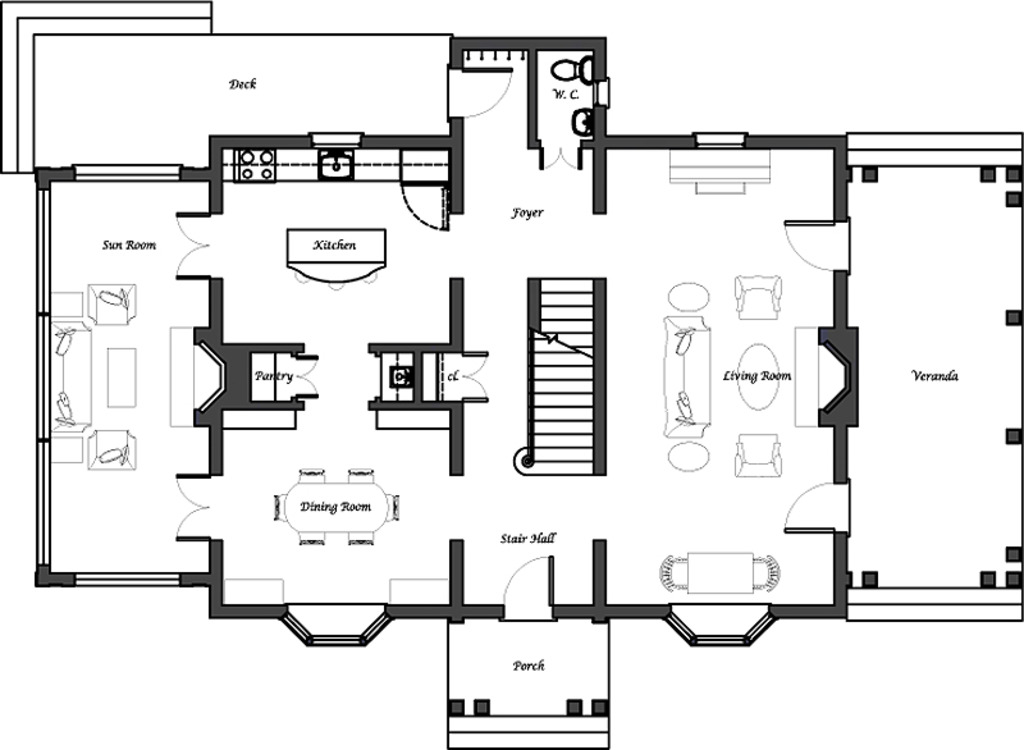dining_table: (266, 465, 401, 550)
door: (781, 217, 858, 273), (500, 552, 555, 625), (781, 480, 850, 538), (173, 205, 218, 285), (167, 469, 216, 539), (451, 66, 512, 116), (397, 181, 450, 235), (454, 346, 490, 404), (287, 353, 322, 400), (536, 141, 583, 172)
kitchen_bar: (281, 223, 391, 291)
large_sink: (547, 49, 596, 90)
large_sofa: (656, 310, 713, 439), (49, 319, 93, 435)
small_sink: (313, 151, 355, 182)
small_sofa: (727, 267, 785, 323), (729, 430, 787, 480), (81, 281, 139, 327), (85, 427, 138, 470)
stairs: (515, 272, 613, 478)
windows: (663, 606, 775, 650), (283, 607, 392, 652), (70, 159, 181, 185)
